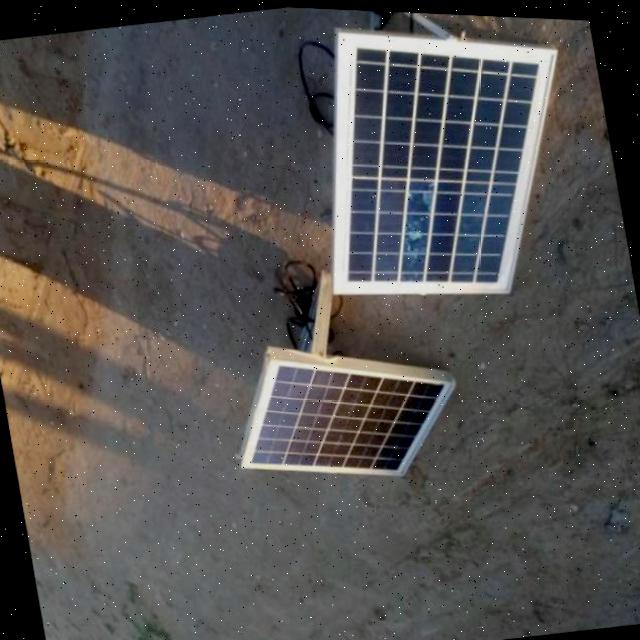Normal Solar Panel: (297, 4, 593, 312), (224, 324, 468, 496)
